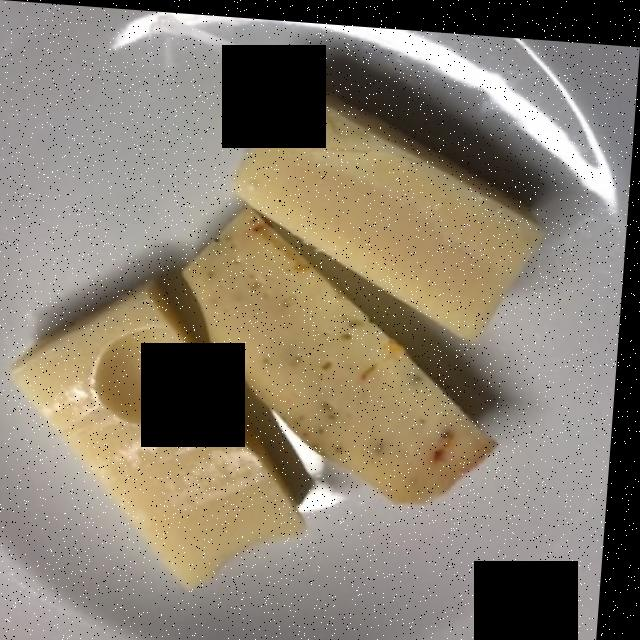cheese: (35, 87, 546, 577)
